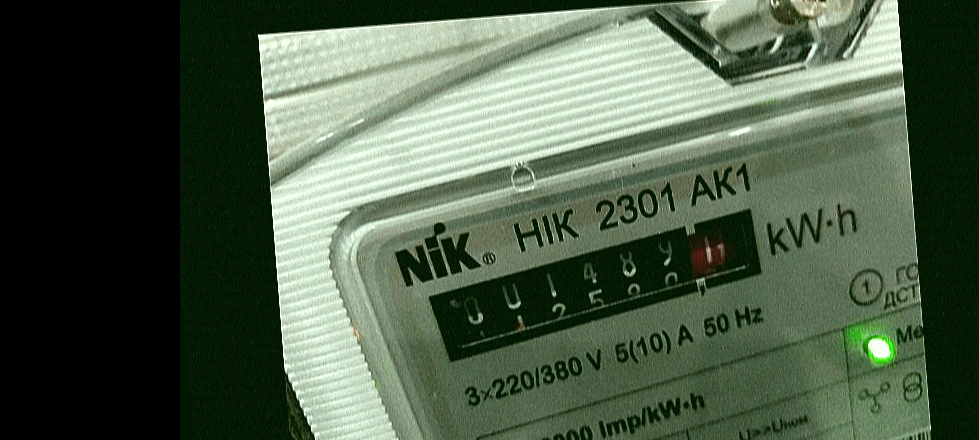0: (497, 274, 525, 312), (460, 291, 487, 328)
1: (697, 227, 719, 266), (540, 267, 563, 300)
4: (577, 254, 602, 287)
8: (617, 243, 640, 281)
9: (655, 234, 678, 268)
screen: (411, 195, 797, 375)
